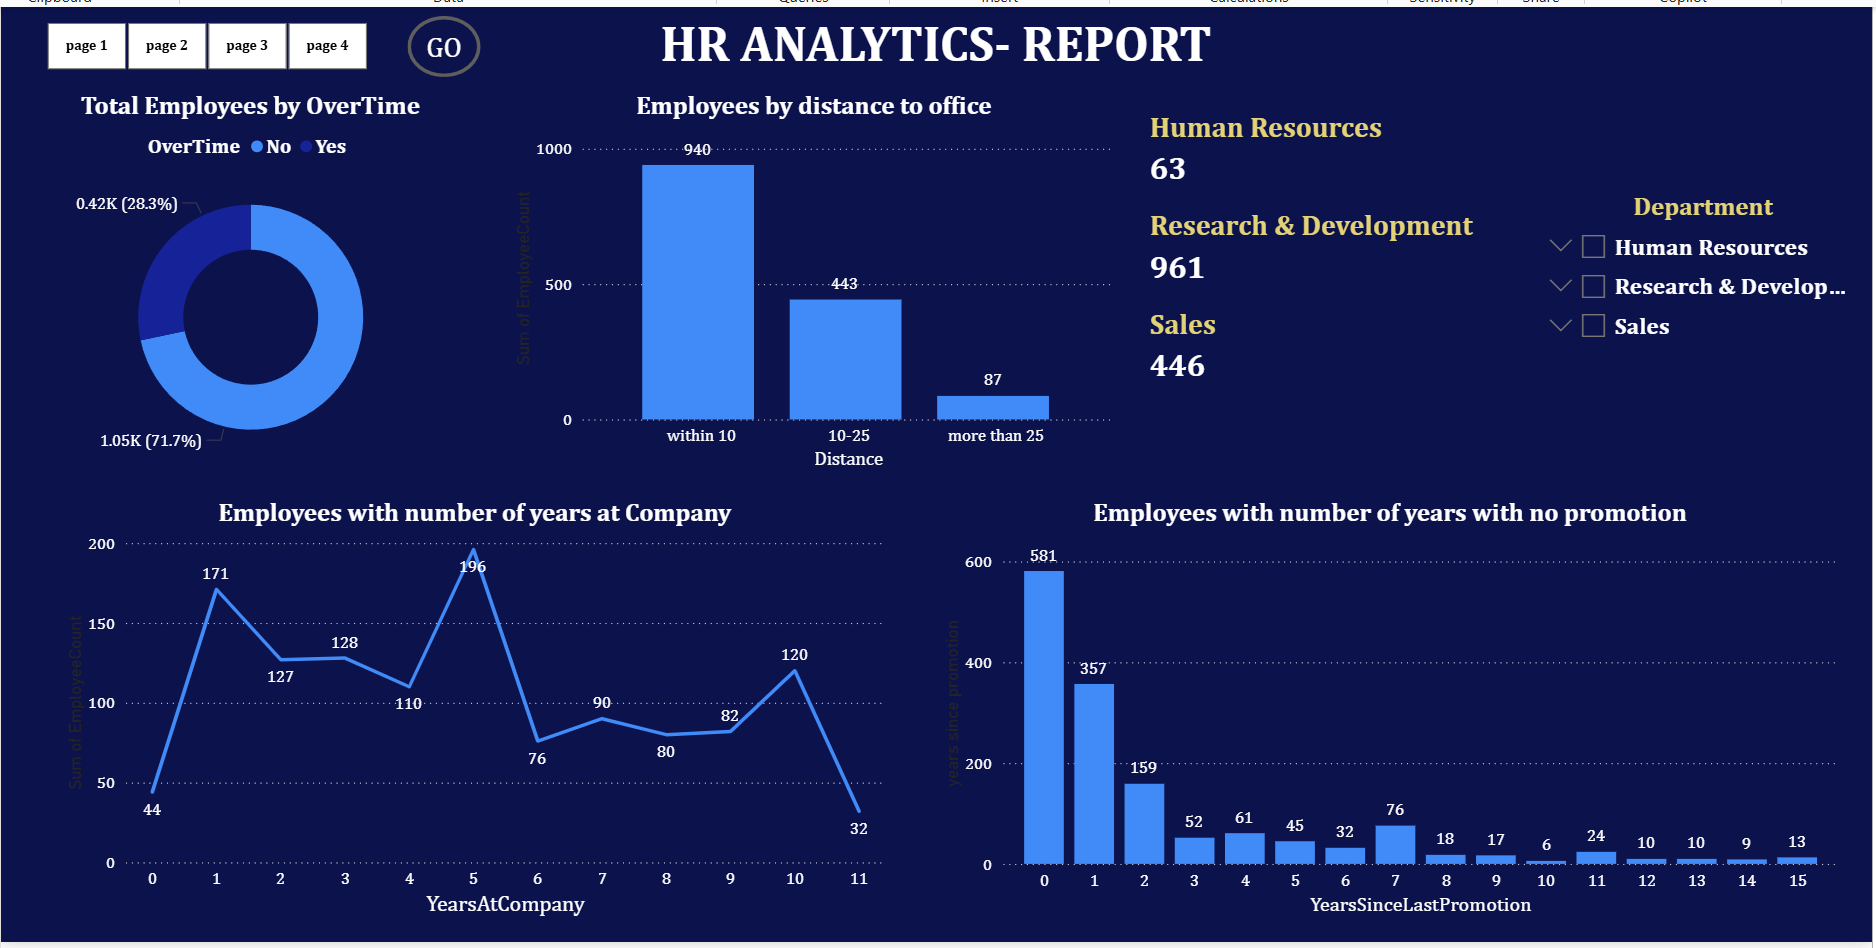

The dashboard page shown, as its layout file describes it:
{"tool":"powerbi","page":{"name":"page 2","canvas":[1600,800],"ordinal":1},"visuals":[{"type":"textbox","box":[493.8,0,611.5,66.8],"z":0},{"type":"columnChart","title":"Employees by distance to office","fields":{"Category":["HR Analytics Data.dist_from_home split"],"Y":["Sum(HR Analytics Data.EmployeeCount)"]},"box":[433.1,71.9,523,328.2],"z":1000},{"type":"donutChart","title":"Total Employees by OverTime","fields":{"Category":["HR Analytics Data.OverTime"],"Y":["CountNonNull(HR Analytics Data.EmployeeNumber)"]},"box":[15,71.9,395.7,328.2],"z":2000},{"type":"multiRowCard","fields":{"Values":["HR Analytics Data.Department","Sum(HR Analytics Data.EmployeeCount)"]},"box":[977.2,83.9,319.2,293.7],"z":3000},{"type":"slicer","title":"Department","fields":{"Values":["HR Analytics Data.Department","HR Analytics Data.JobRole"]},"box":[1311.4,157.4,289.2,145.4],"z":4000},{"type":"columnChart","title":"Employees with number of years with no promotion","fields":{"Category":["HR Analytics Data.YearsSinceLastPromotion"],"Y":["Sum(HR Analytics Data.EmployeeCount)"]},"box":[800.3,419.6,774.8,362.7],"z":5000},{"type":"lineChart","title":"Employees with number of years at Company","fields":{"Category":["HR Analytics Data.YearsAtCompany"],"Y":["Sum(HR Analytics Data.EmployeeCount)"]},"box":[49.5,419.6,710.4,362.7],"z":6000},{"type":"actionButton","title":"GO","box":[347.1,7.3,62.5,52.3],"z":7000},{"type":"slicer","title":"Department","fields":{"Values":["Table.Column1"]},"box":[14.5,5.8,322.4,53.7],"z":8000}]}

Visuals, with their boxes on the page's 1600x800 design canvas (x1, y1, x2, y2). These are canvas units, not pixel positions in the 1876x948 screenshot, which may show the page scaled, cropped or inside an application window:
textbox: region(494, 0, 1105, 67)
"Employees by distance to office" columnChart: region(433, 72, 956, 400)
"Total Employees by OverTime" donutChart: region(15, 72, 411, 400)
multiRowCard - HR Analytics Data.Department x Sum(HR Analytics Data.EmployeeCount): region(977, 84, 1296, 378)
"Department" slicer: region(1311, 157, 1601, 303)
"Employees with number of years with no promotion" columnChart: region(800, 420, 1575, 782)
"Employees with number of years at Company" lineChart: region(50, 420, 760, 782)
"GO" actionButton: region(347, 7, 410, 60)
"Department" slicer: region(14, 6, 337, 60)
